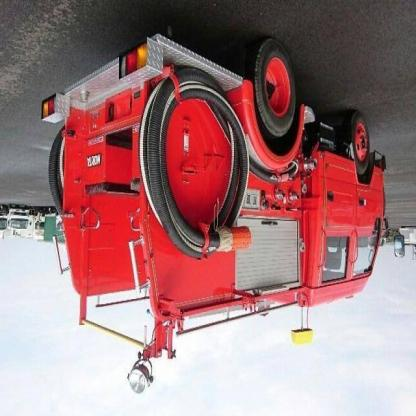truck: (42, 33, 408, 401)
